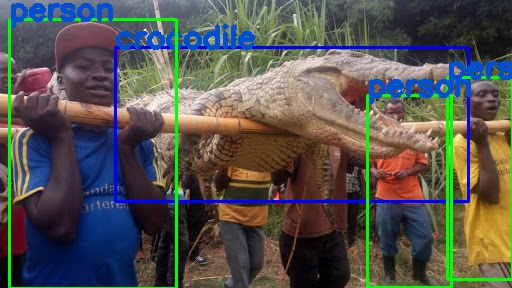crocodile: (115, 47, 468, 201)
person: (8, 18, 176, 288), (367, 94, 450, 286), (446, 77, 511, 279)
